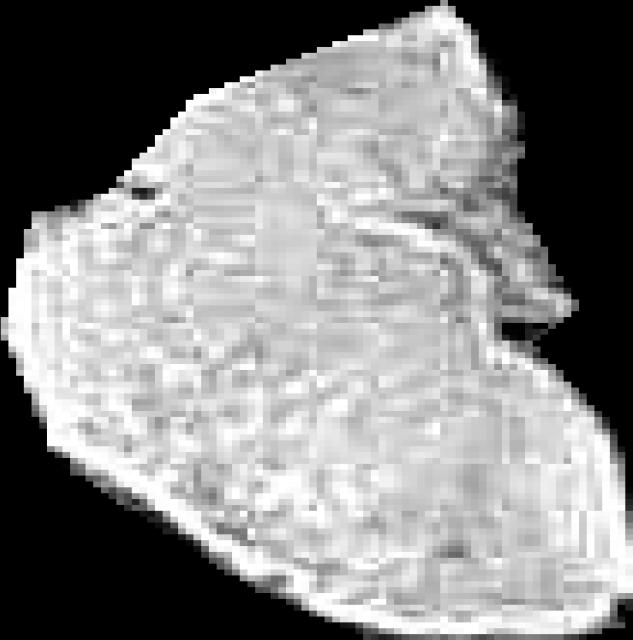tumor_moderate_chance: (1, 0, 633, 640)
